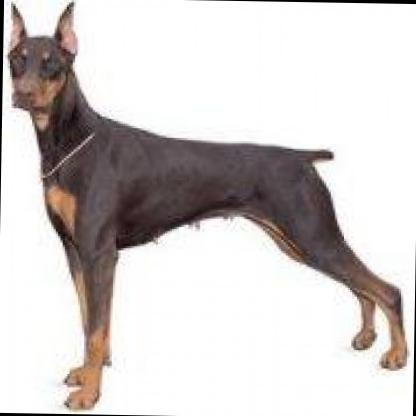Doberman: (0, 0, 414, 414)
